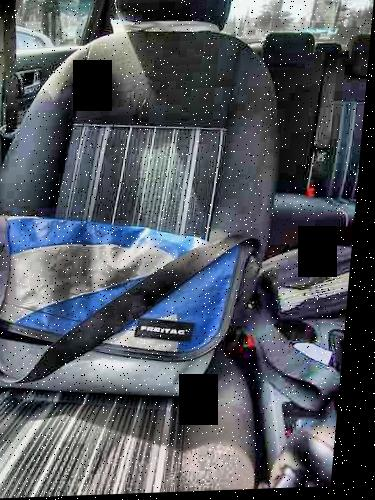seatbelt: (0, 40, 37, 160)
